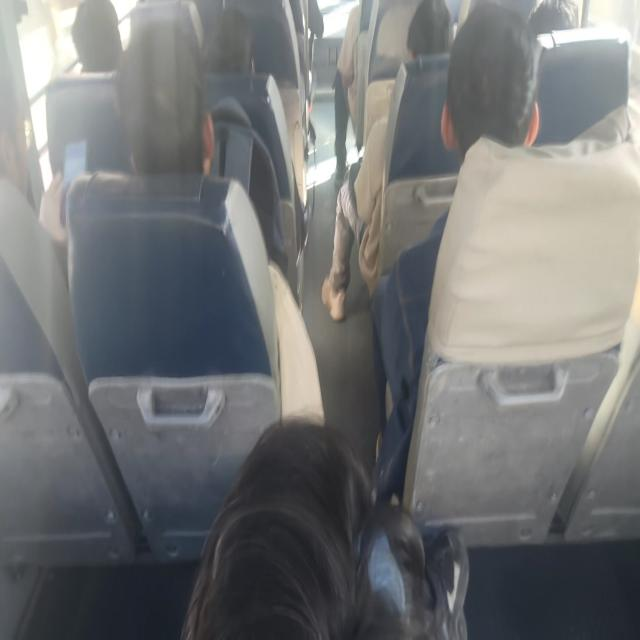person: (186, 413, 478, 640), (126, 50, 218, 185), (454, 22, 541, 162), (199, 2, 255, 74), (0, 65, 33, 185), (64, 11, 127, 68), (521, 0, 589, 49), (402, 0, 442, 64)
